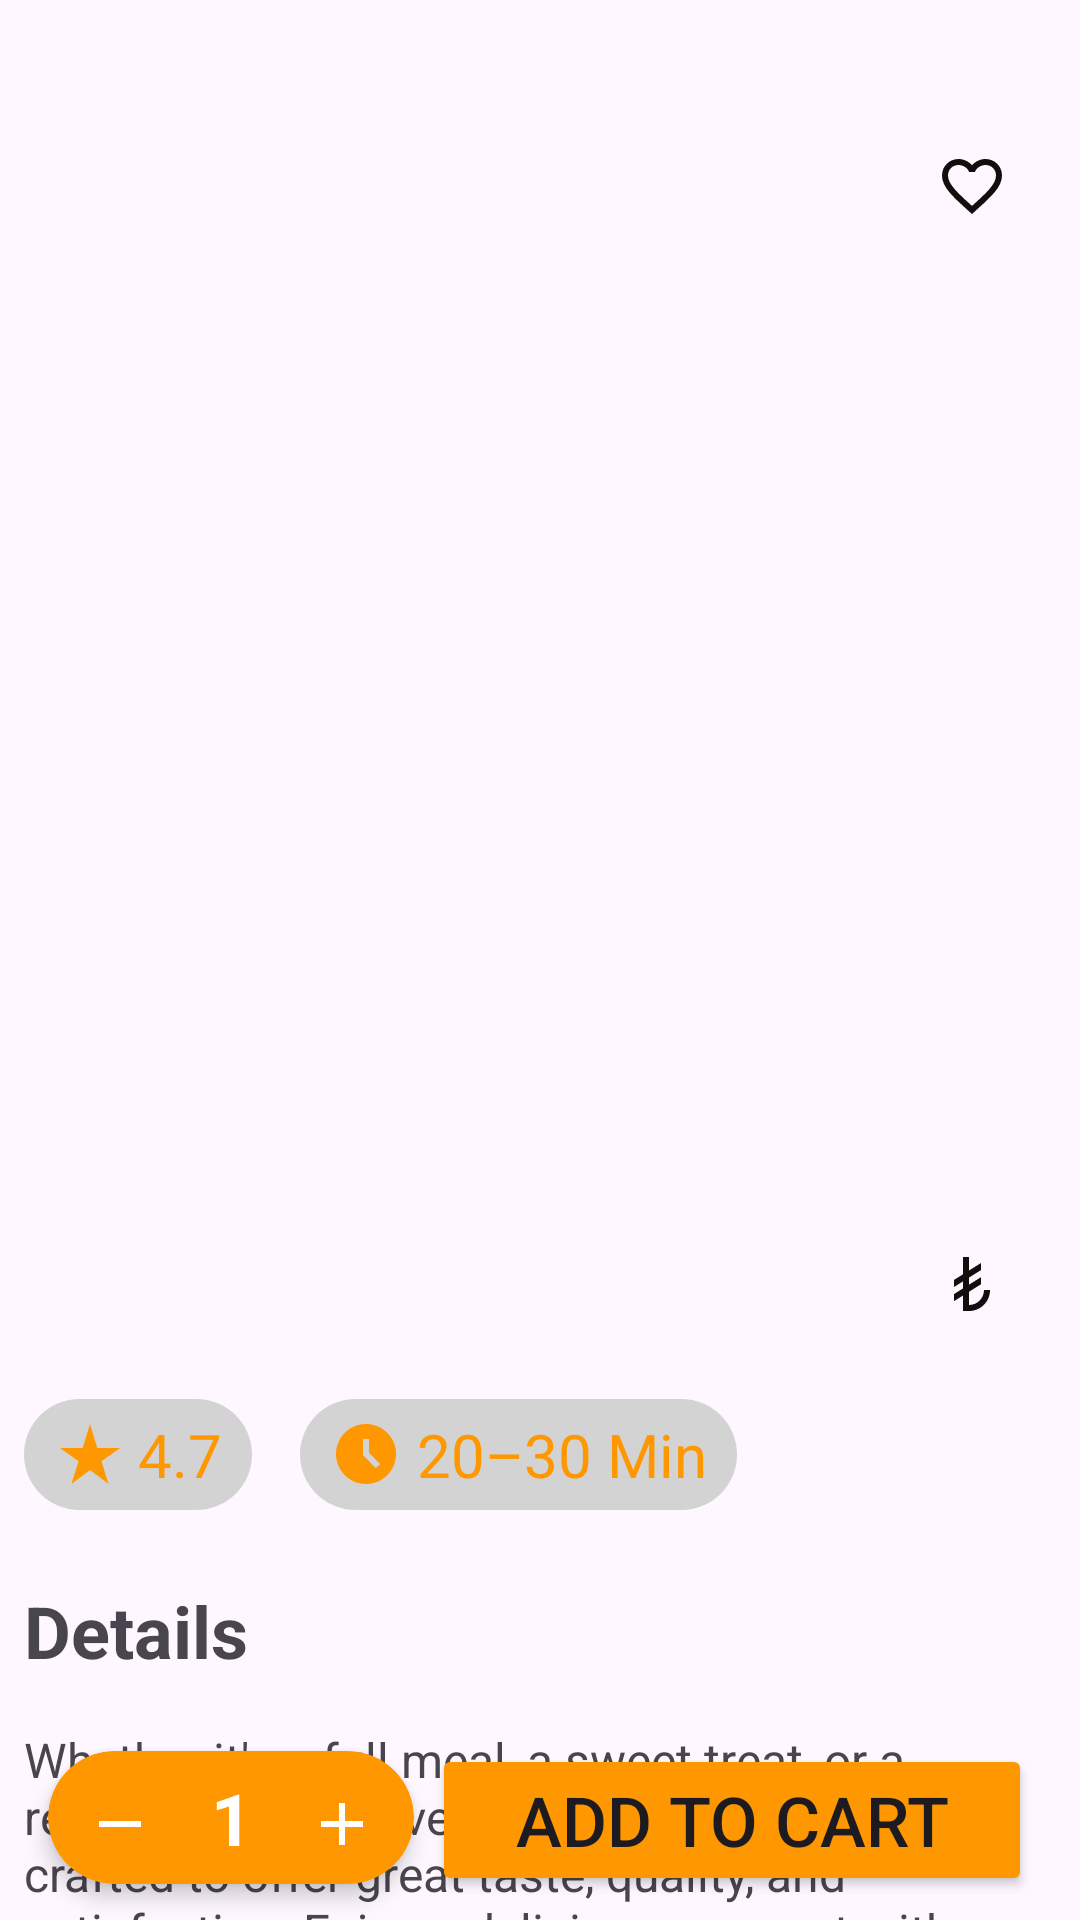

Icons on this 1080*1920 Android screen, each with the point to tap as [x,y]:
like empty: [972,186]
plus: [342,1824]
